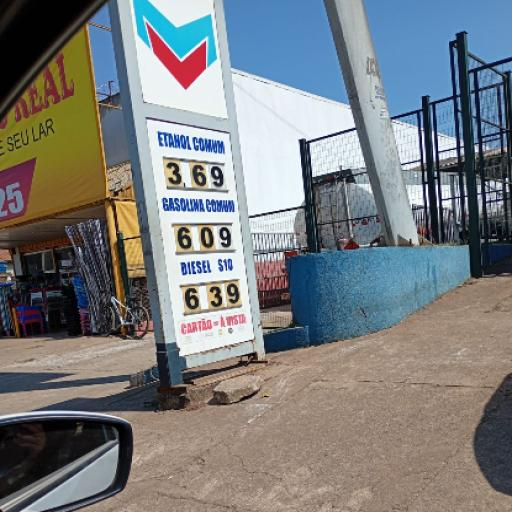ETANOL: (154, 121, 232, 156)
GASOLINA C: (158, 196, 245, 216)
S10: (172, 259, 245, 277)
placa: (133, 109, 261, 374)
preco: (161, 157, 235, 191), (170, 221, 242, 254), (178, 282, 248, 310)
